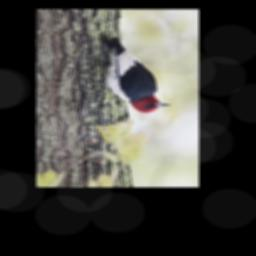Woodpecker: (103, 36, 171, 114)
